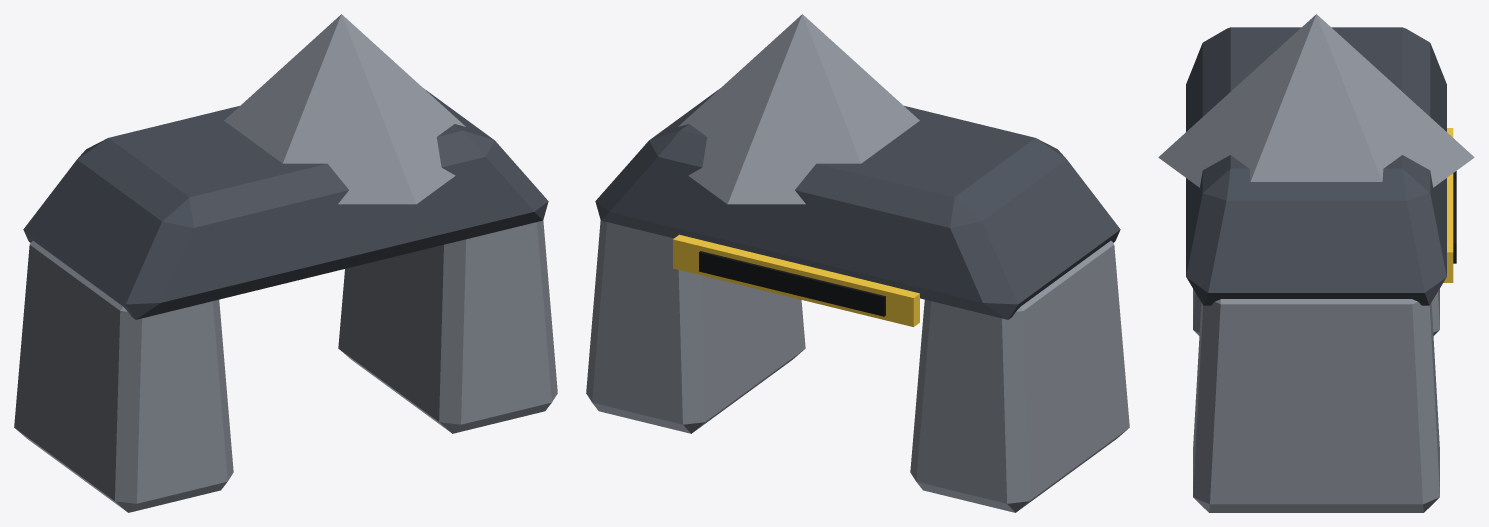
File: tunnel.glb
3 views of the same model, side by side, from view 1: azimuth 30°, elevation 25°; view 2: azimuth 150°, elevation 25°; view 3: azimuth 270°, elevation 25° (orthographic). The views are drawn at different scales.
Parts seen in each view (by area): view 1: tunnel; view 2: tunnel; view 3: tunnel.
Part boxes in pixels (x1,y1,x2,y2): tunnel: (14,14,557,512); tunnel: (586,14,1129,512); tunnel: (1158,14,1474,512).
Size of the model in its own units: 4.78 by 4.1 by 2.8.
1 material, 1 textured.
